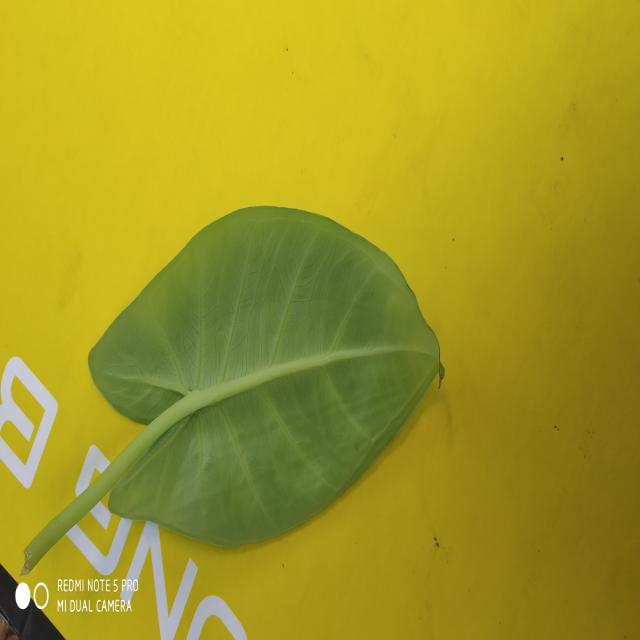taro: (89, 207, 440, 547)
